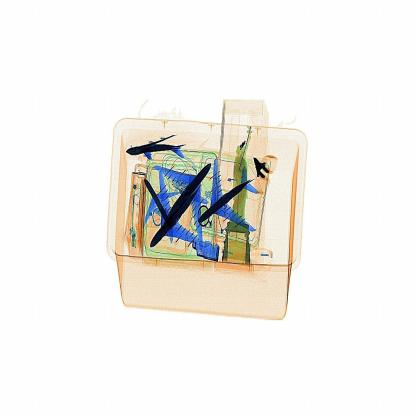gun: (247, 147, 287, 203)
